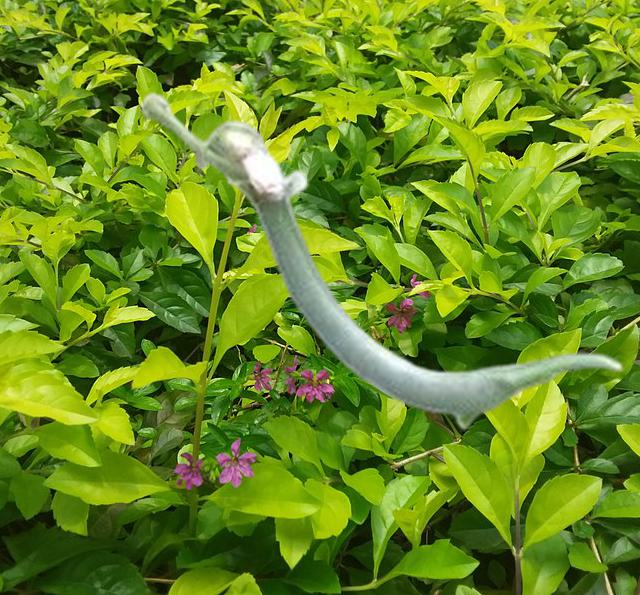french_bean: (139, 90, 623, 430)
